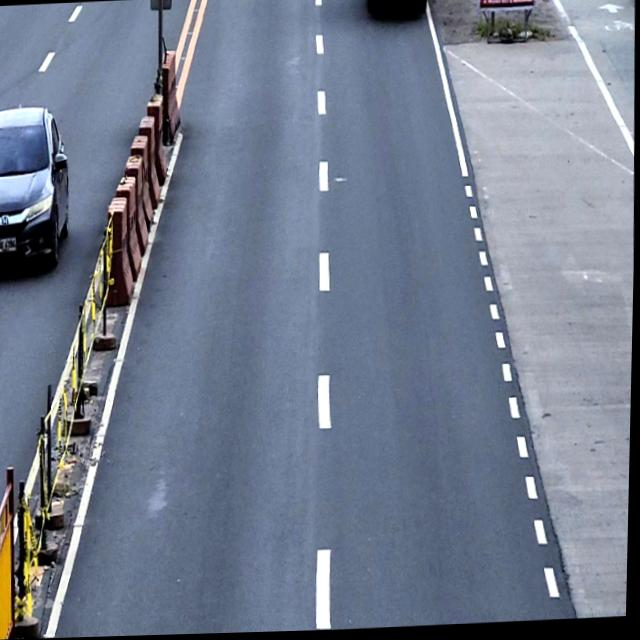Car: (0, 102, 74, 274)
License-Plate: (0, 236, 19, 252)
